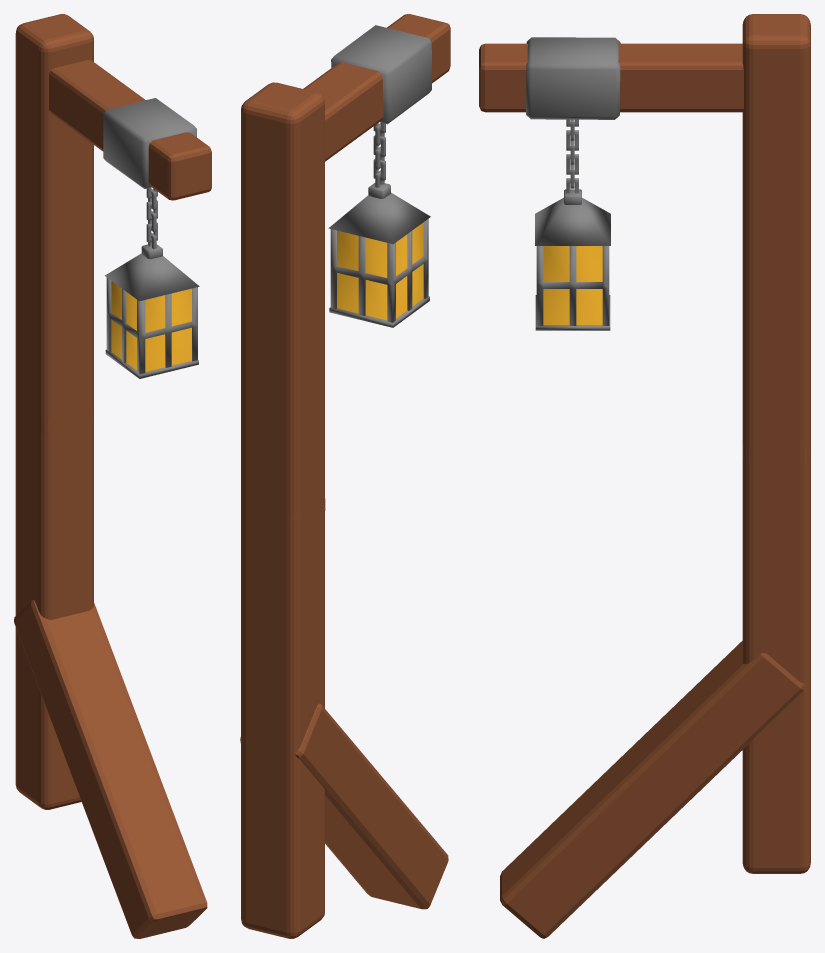
The model's file is lantaarnpaal(4).fbx.
3 renders of one model, left to right at view 1: azimuth 30°, elevation 25°; view 2: azimuth 150°, elevation 25°; view 3: azimuth 270°, elevation 25°, orthographic. The views are drawn at different scales.
Parts seen in each view (by area): view 1: Cube.002; view 2: Cube.002; view 3: Cube.002.
Part boxes in pixels (x1,y1,x2,y2): Cube.002: (14, 14, 211, 938); Cube.002: (240, 14, 450, 938); Cube.002: (479, 14, 810, 938).
Bounding box in the file's own units: 21.8 × 270 × 89.95.
